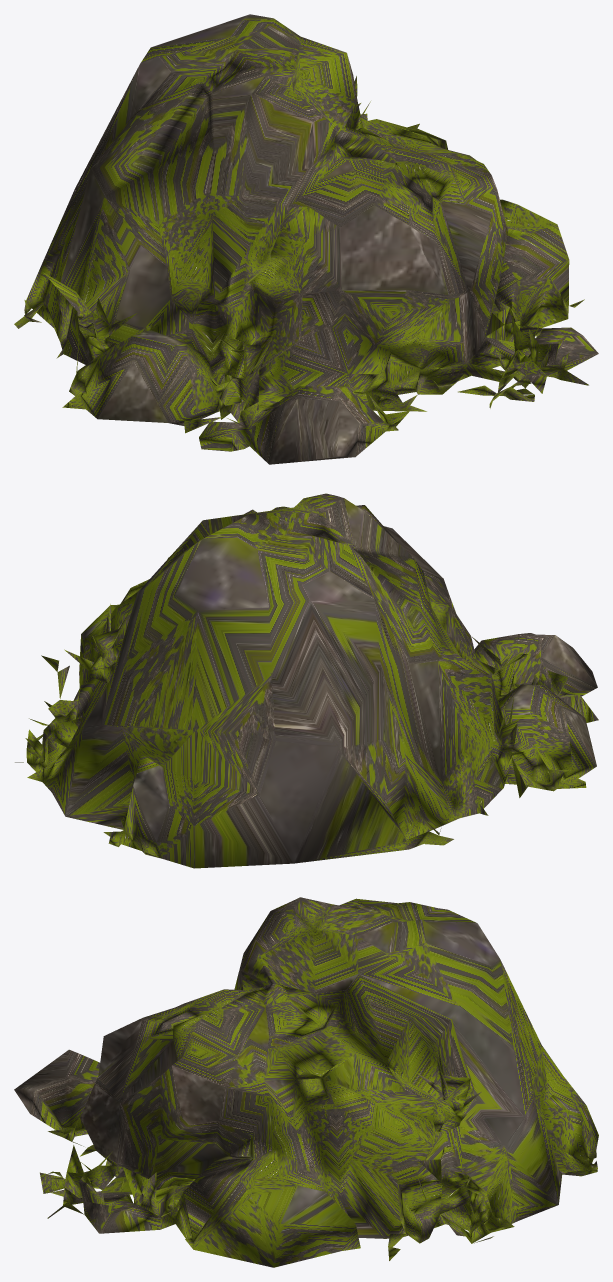
File: pebble.glb
3 views of the same model, one above another, from view 1: azimuth 30°, elevation 25°; view 2: azimuth 150°, elevation 25°; view 3: azimuth 270°, elevation 25° (orthographic). The views are drawn at different scales.
Size of the model in its own units: 2.53 by 1.23 by 2.7.
1 material, 1 textured.
